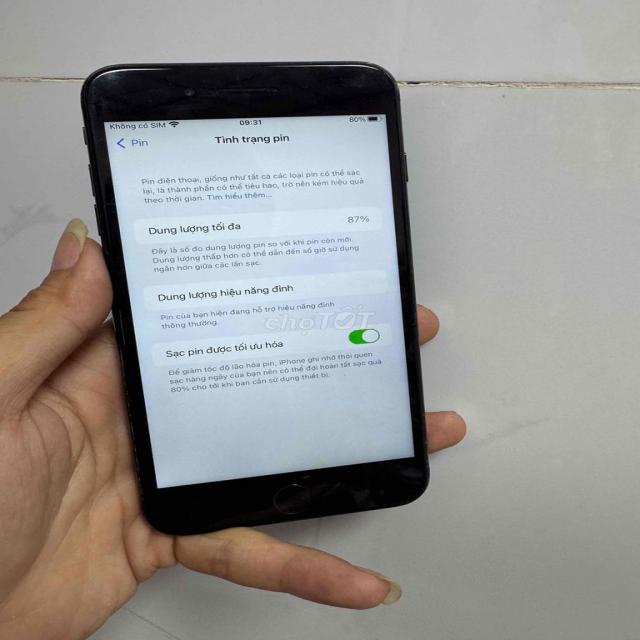gen_7_8: (75, 58, 439, 532)
